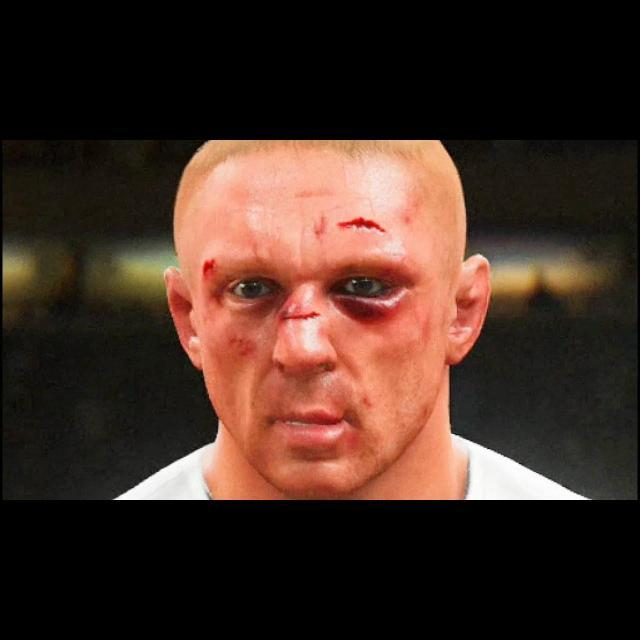blood: (278, 298, 320, 326), (229, 322, 258, 362), (338, 216, 386, 232), (202, 258, 216, 280), (316, 224, 324, 234)
